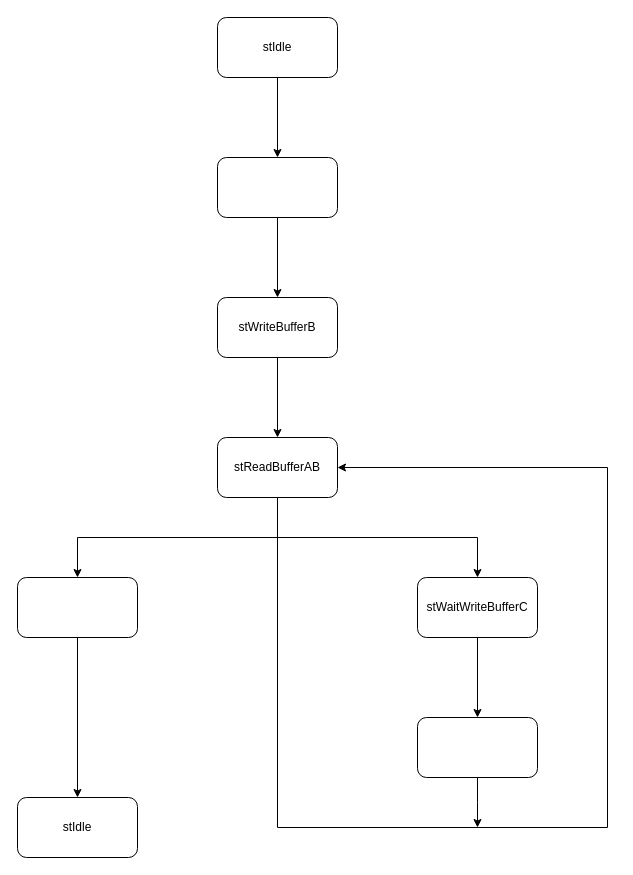
Some shapes in this 633 by 875 pixel diagram are drawn without their labels. Each missing label, with the centre of its shape:
"stComplete" goes at [77,607].
"stWriteBufferA" goes at [277,187].
"stWriteBufferC" goes at [477,747].
